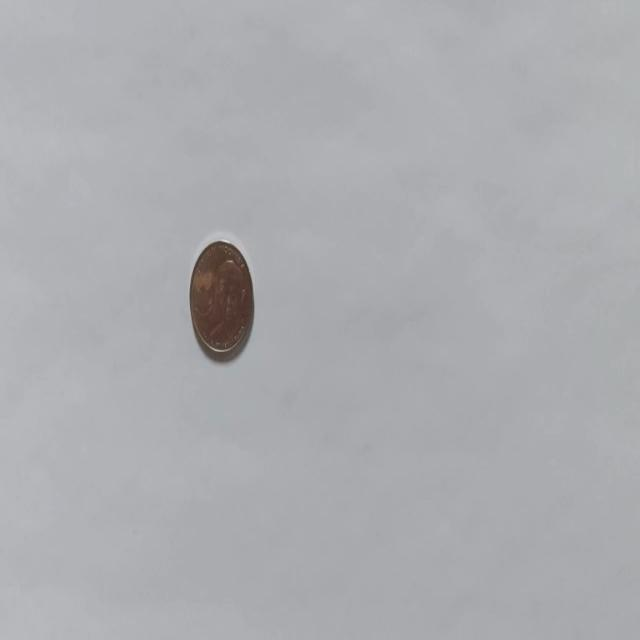seribu rupiah koin: (188, 234, 254, 360)
